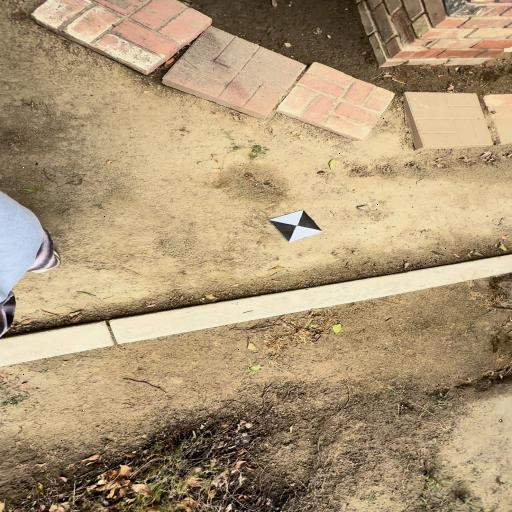target: (268, 210, 323, 242)
